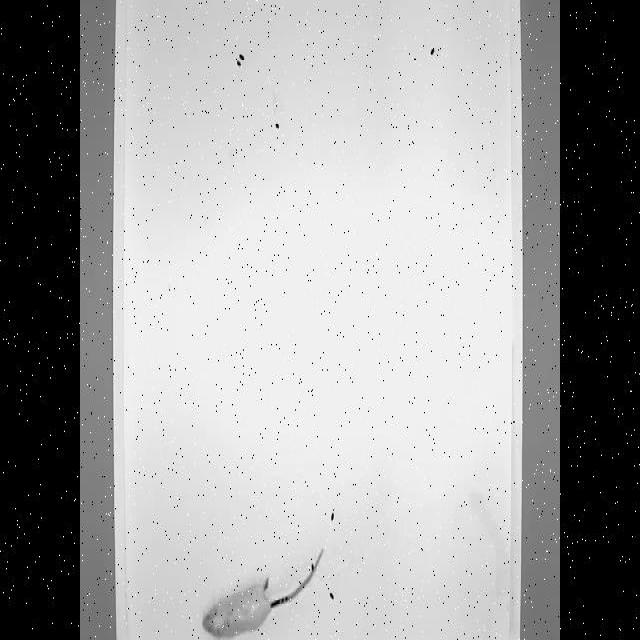rat: (198, 529, 329, 640)
